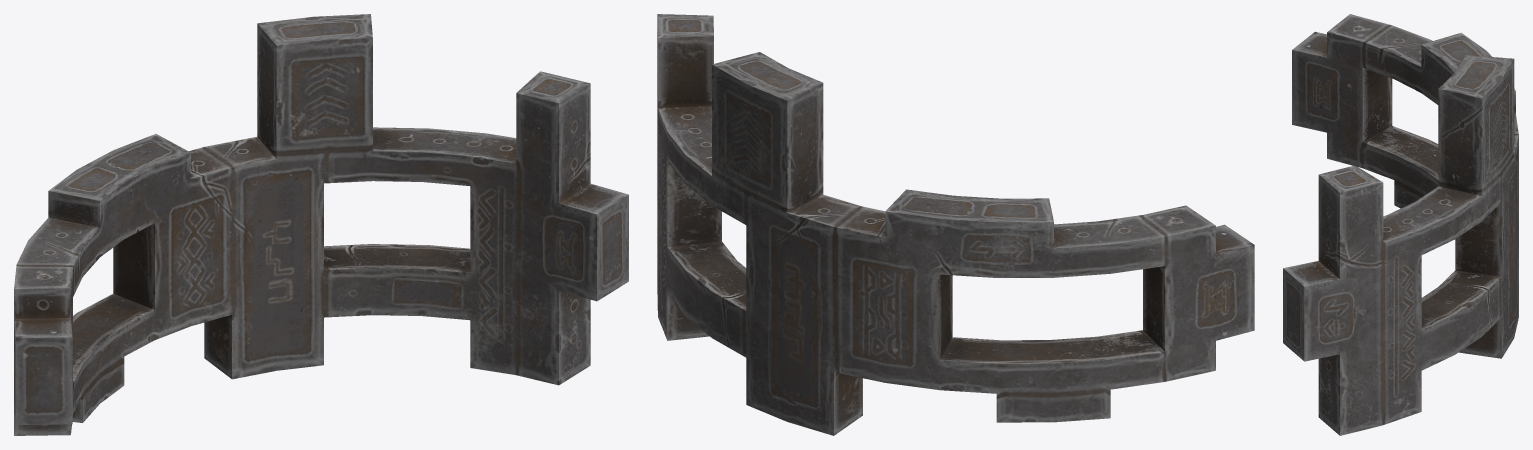
The model's file is ethiofenselarge.glb.
The picture shows the model from 3 angles, left to right: view 1: azimuth 30°, elevation 25°; view 2: azimuth 150°, elevation 25°; view 3: azimuth 270°, elevation 25°; orthographic projection. The views are drawn at different scales.
Visible parts, largest first — view 1: AncientRuins_Shell_M_AncientRuins_Props_0; view 2: AncientRuins_Shell_M_AncientRuins_Props_0; view 3: AncientRuins_Shell_M_AncientRuins_Props_0.
Part boxes in pixels (<box>): AncientRuins_Shell_M_AncientRuins_Props_0: <box>14,14,628,435</box>; AncientRuins_Shell_M_AncientRuins_Props_0: <box>657,14,1254,435</box>; AncientRuins_Shell_M_AncientRuins_Props_0: <box>1283,14,1518,435</box>.
Bounding box in the file's own units: 13.68 × 6.99 × 5.35.
Materials: 1 (1 with a texture image).
